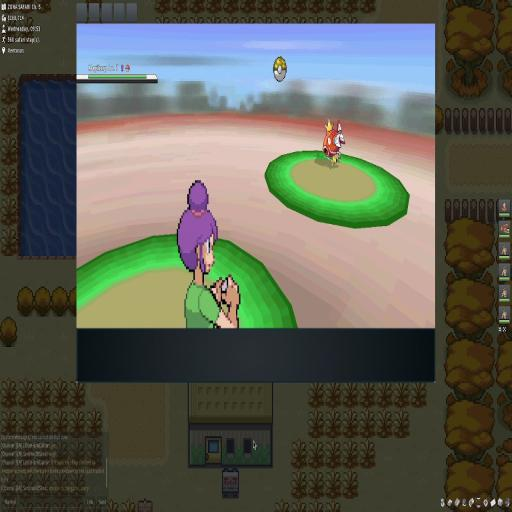MAGIKARP: (320, 117, 346, 169)
